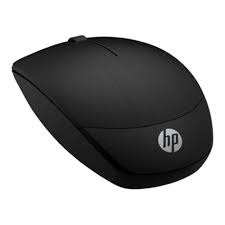mouse: (11, 33, 217, 187)
